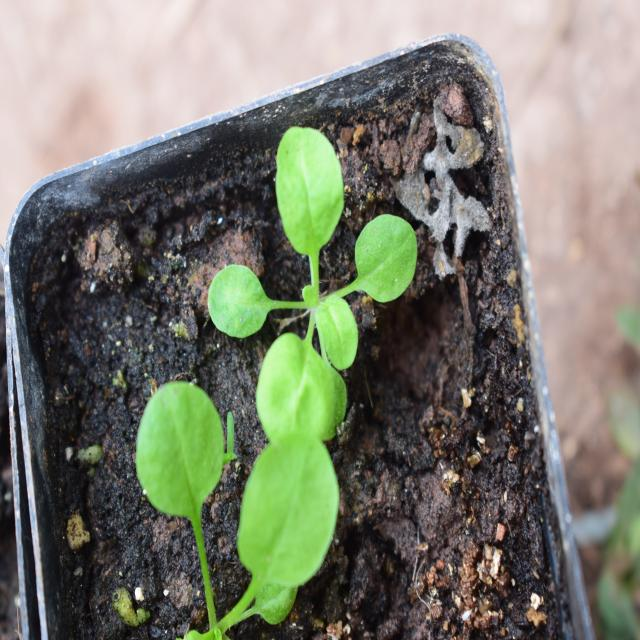Shepherd_Purse: (210, 116, 410, 450), (132, 370, 345, 620)
